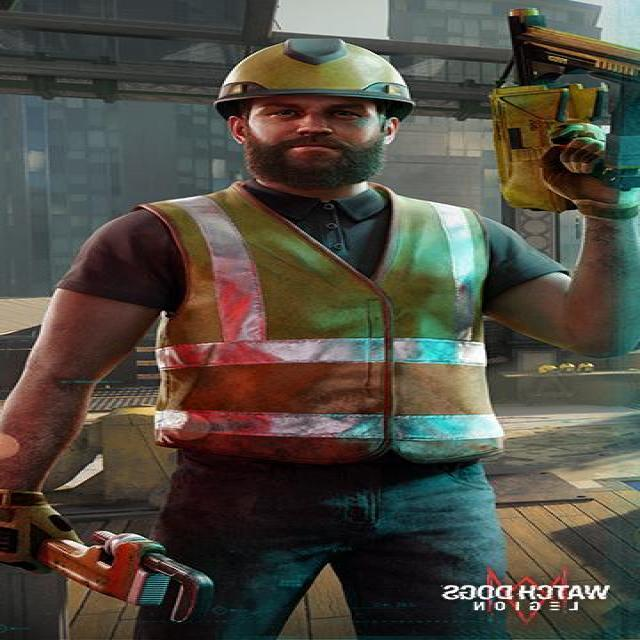capacete: (212, 25, 422, 121)
colete: (136, 171, 516, 475)
pessoa: (15, 34, 640, 640)
